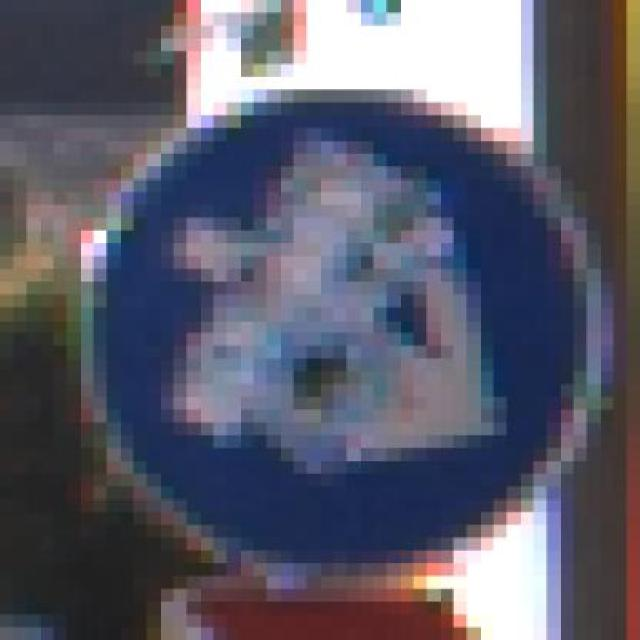Keep-Right: (53, 65, 627, 563)
